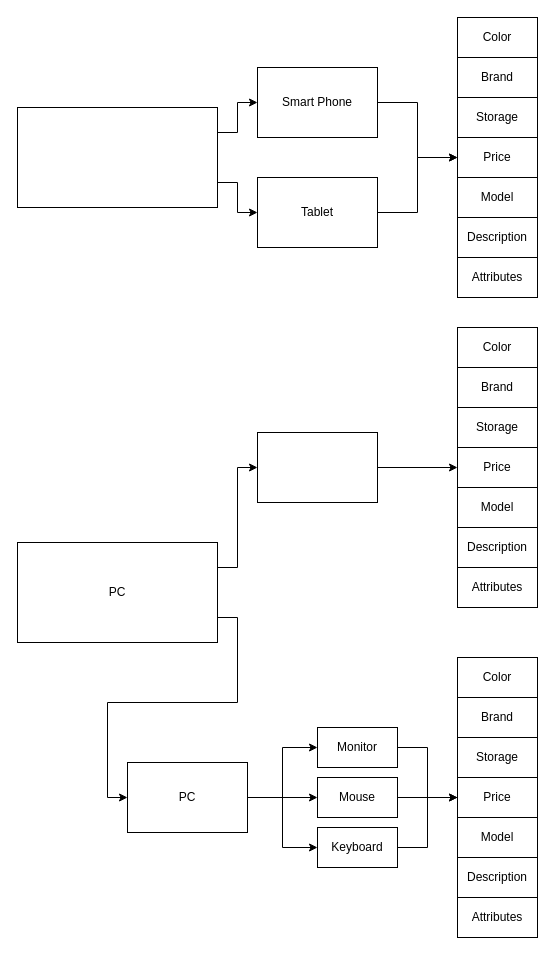
Some shapes in this 555 by 955 pixel diagram are drawn without their labels. The shapes that lost their labels are listed below. From the top down, each one's box as (x1, y1, x2, y2) in pixels, then its label:
(16, 106, 218, 208): Phone
(256, 432, 378, 502): Laptop
